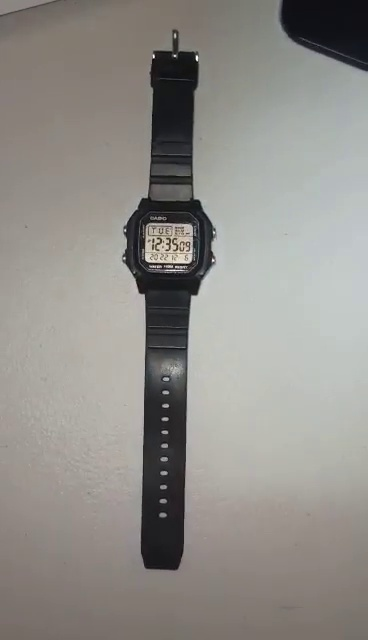hand: (125, 30, 219, 570)
